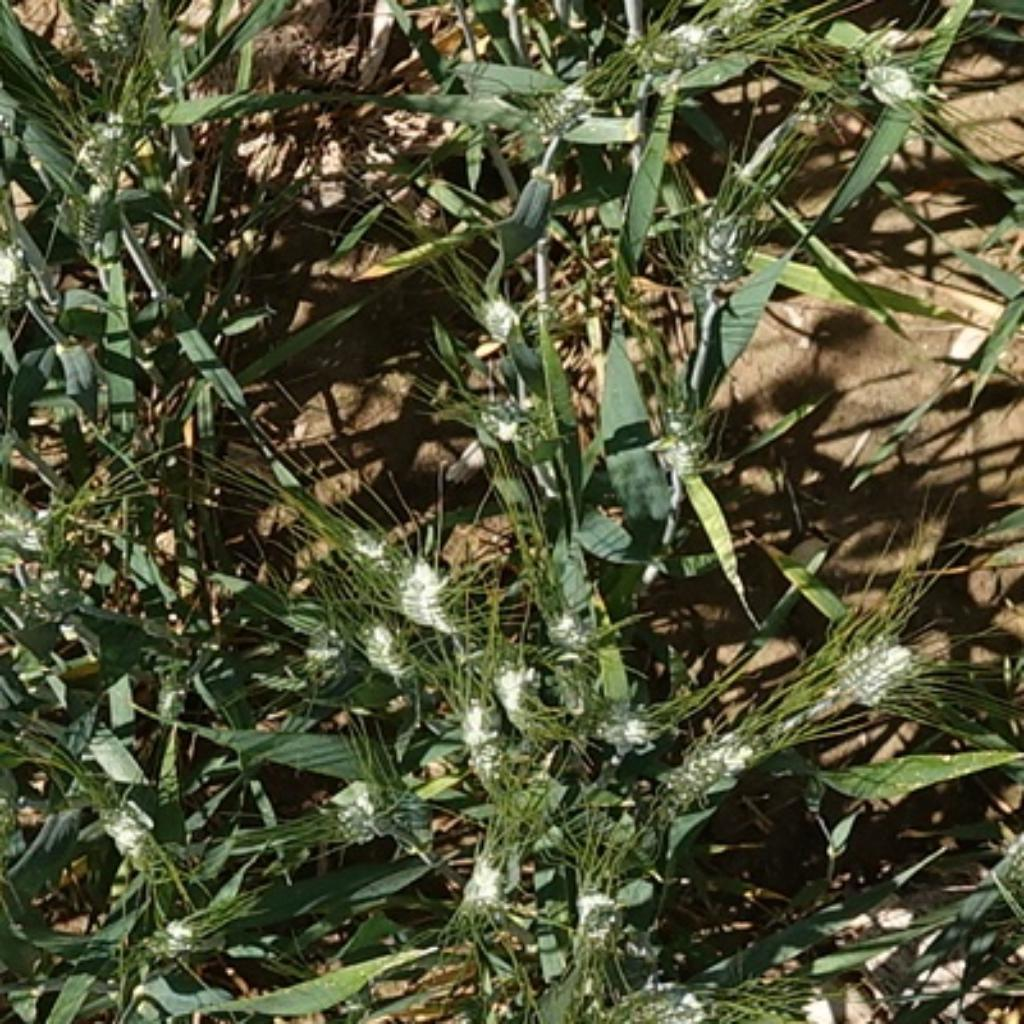0-0: (655, 696, 801, 806), (657, 179, 760, 302), (576, 683, 678, 773), (304, 514, 414, 596), (640, 368, 716, 478), (69, 84, 156, 179), (84, 773, 168, 865), (829, 637, 928, 713), (473, 632, 542, 737), (560, 875, 637, 965), (445, 686, 512, 788), (2, 215, 46, 363), (53, 171, 140, 245), (327, 779, 414, 850), (509, 71, 596, 140), (448, 839, 517, 924), (386, 545, 458, 624), (629, 983, 760, 1024), (281, 611, 358, 680), (67, 2, 157, 60), (125, 903, 212, 962), (345, 609, 414, 678), (537, 599, 614, 655), (648, 21, 730, 71), (465, 281, 524, 340), (857, 54, 922, 104), (706, 2, 780, 43), (39, 479, 102, 526), (466, 400, 533, 442)
